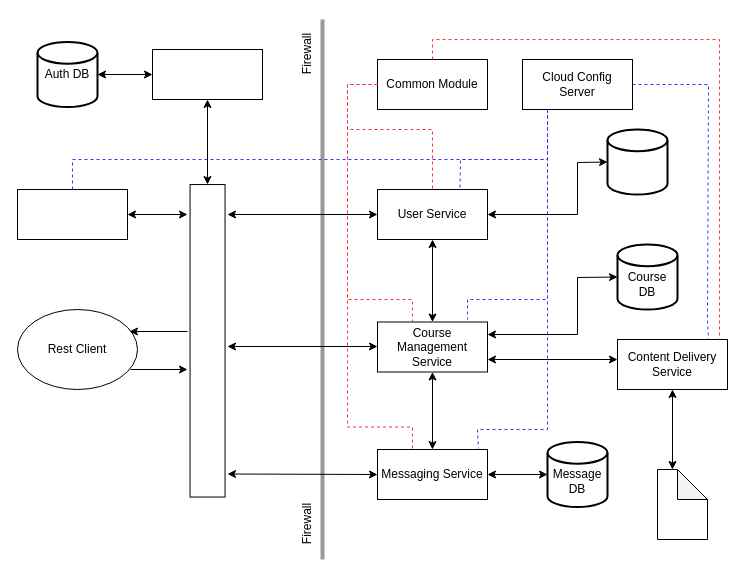
Image size: 745x578. Some labels were removed from this diagram. Each missing label, with the centre of its shape:
"API Gateway" goes at point (207, 340).
"Auth Server" goes at point (207, 74).
"Discovery Server" goes at point (72, 214).
"File System" goes at point (682, 504).
"User DB" goes at point (637, 161).
